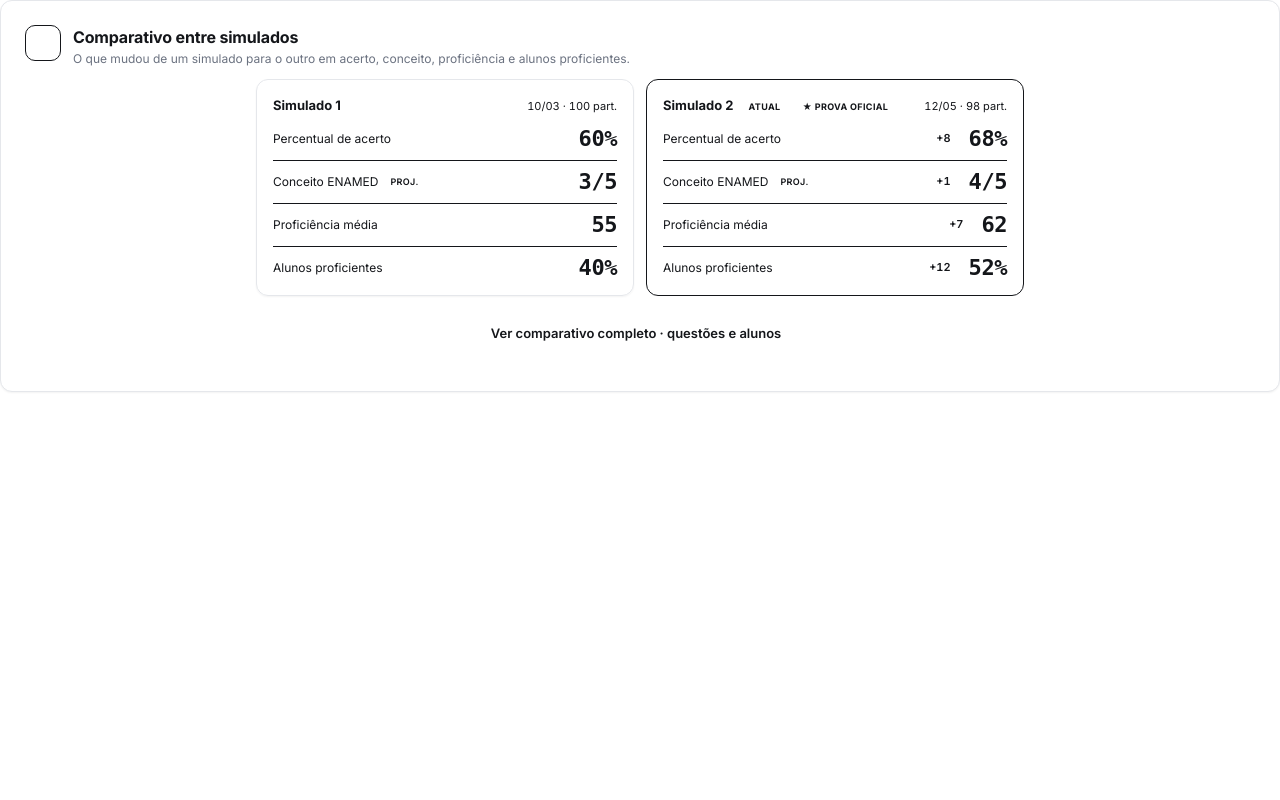
Test case: ComparativoSimulados › selo "★ Prova oficial" (Task 5) › marca só o simulado que useEhProvaOficial reconhece, nas 3 anatomias
Expected: the text "★ Prova oficial" is shown, x1=796 y1=100 x2=895 y2=113
Step 1. Click the button "Ver comparativo completo · questões e alunos" → x=640, y=333, box x1=25 y1=312 x2=1255 y2=355
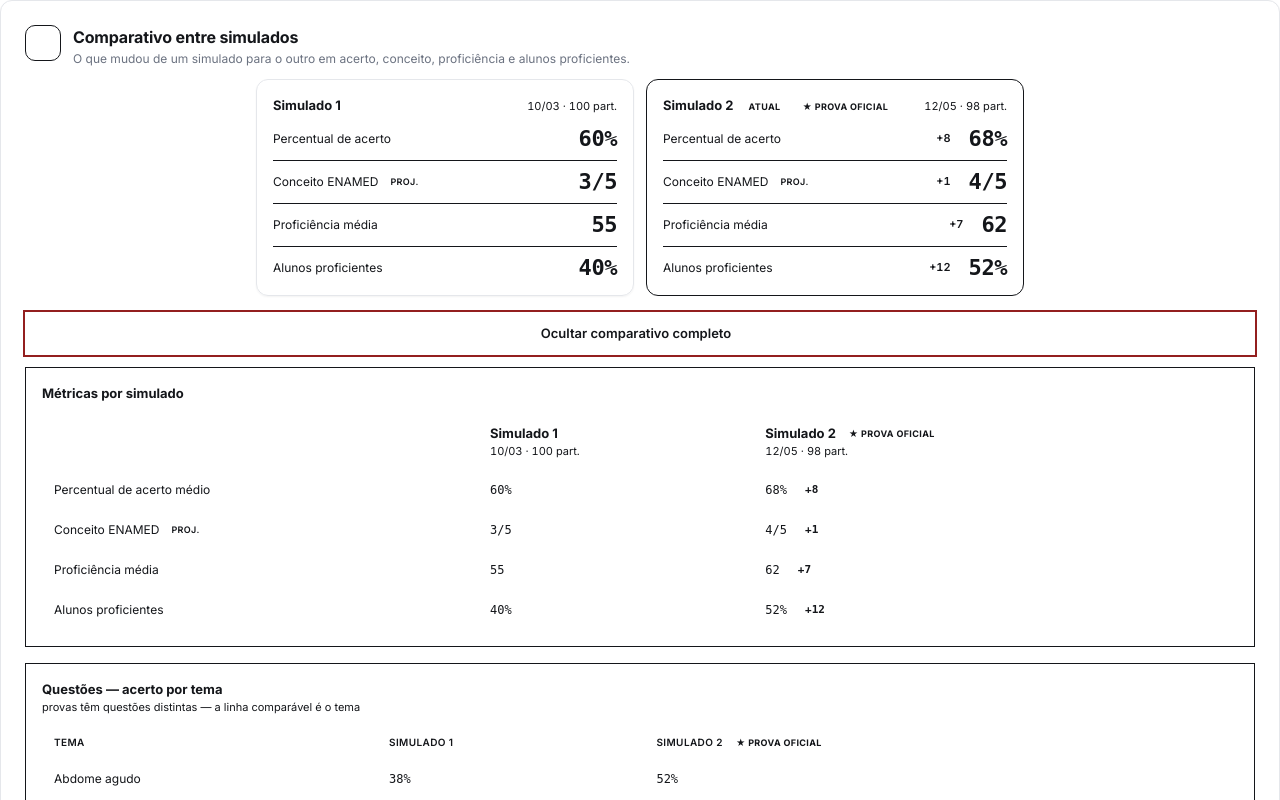
Result: the text "★ Prova oficial" is shown once at x1=842 y1=427 x2=942 y2=440
